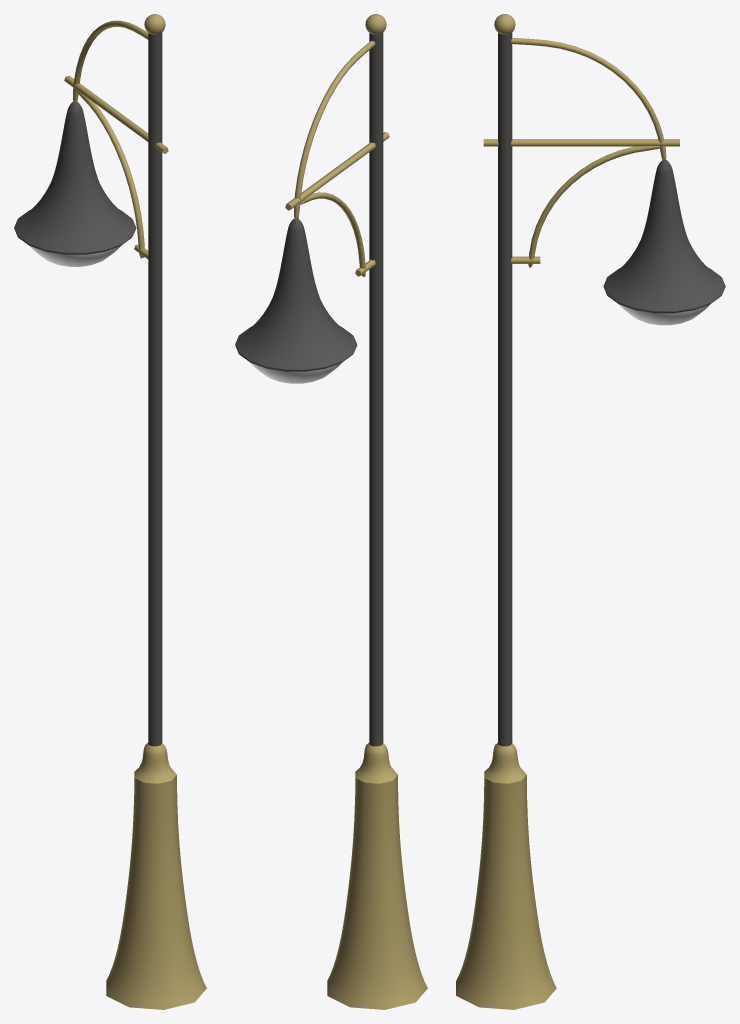
The model's file is lamps.gltf.
The picture shows the model from 3 angles, left to right: view 1: azimuth 30°, elevation 25°; view 2: azimuth 150°, elevation 25°; view 3: azimuth 270°, elevation 25°; orthographic projection.
Parts seen in each view (by area): view 1: 路灯22; view 2: 路灯22; view 3: 路灯22.
Part boxes in pixels (bbox=[...]): 路灯22: bbox=[14, 14, 206, 1009]; 路灯22: bbox=[235, 14, 427, 1009]; 路灯22: bbox=[456, 14, 725, 1009].
Bounding box in the file's own units: 0.461 × 4.1 × 1.03.
